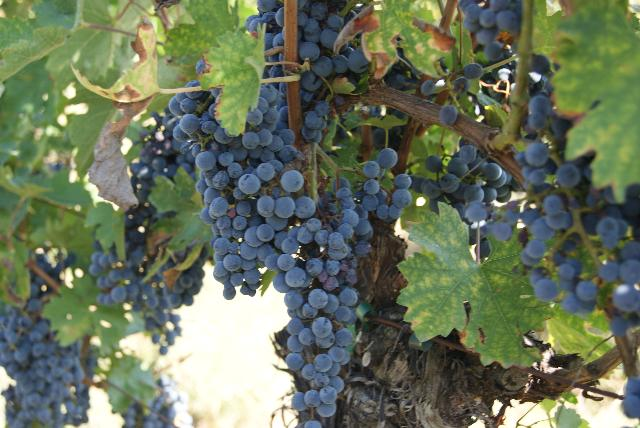grapes: (211, 188, 378, 418), (169, 85, 300, 299), (362, 148, 411, 221)
